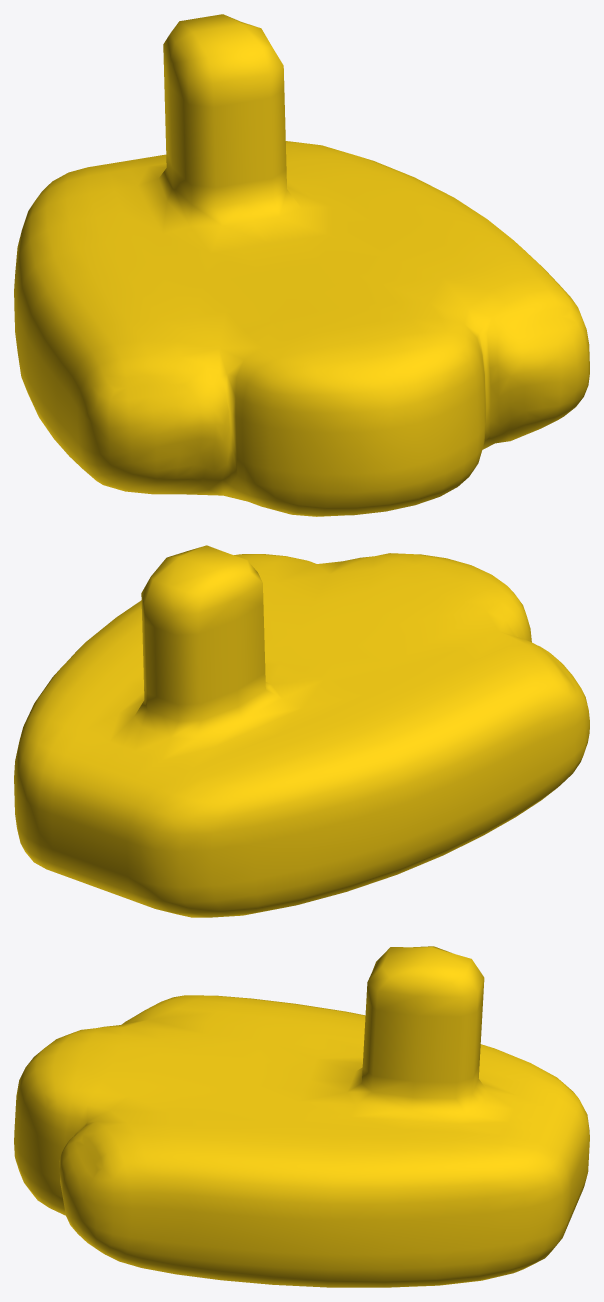
Rendered from pie_d.obj.
The picture shows the model from 3 angles, top to bottom: view 1: azimuth 30°, elevation 25°; view 2: azimuth 150°, elevation 25°; view 3: azimuth 270°, elevation 25°; orthographic projection. The views are drawn at different scales.
Visible parts, largest first — view 1: rfoot; view 2: rfoot; view 3: rfoot.
Boxes of the visible parts, x1,y1,x2,y2 form: rfoot: [14, 14, 589, 516]; rfoot: [14, 545, 589, 917]; rfoot: [14, 946, 589, 1287].
Size of the model in its own units: 4.61 by 3.05 by 5.8.
